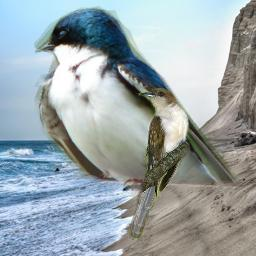Cuckoo: (129, 88, 190, 240)
Swallow: (34, 5, 241, 216)
